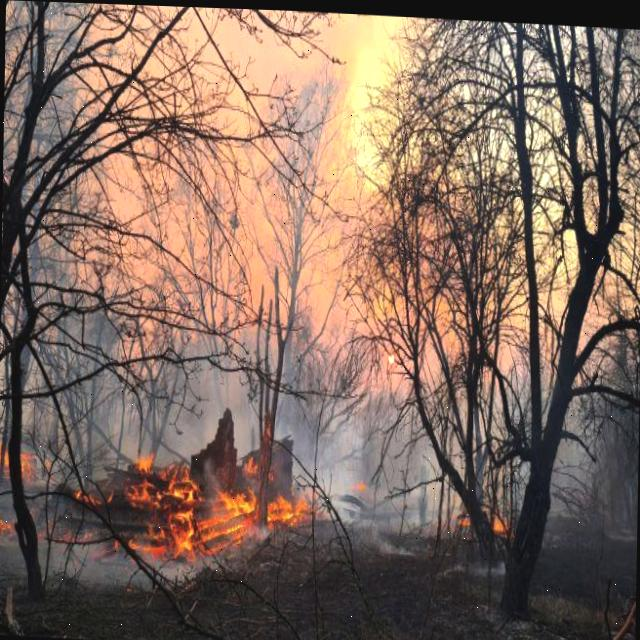fire: (128, 457, 318, 561)
smoke: (29, 1, 461, 529)
